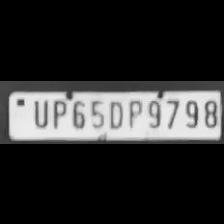5: (87, 96, 105, 130)
6: (67, 97, 87, 129)
7: (161, 96, 179, 130)
8: (200, 97, 220, 129)
9: (181, 97, 201, 129), (144, 97, 162, 129)
D: (105, 97, 124, 129)
P: (48, 96, 68, 128), (125, 97, 143, 129)
U: (30, 98, 50, 128)
